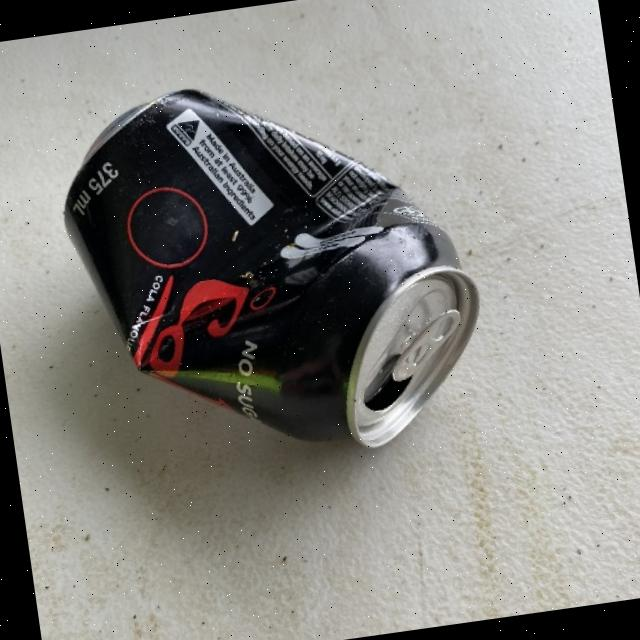metal: (46, 50, 498, 488)
